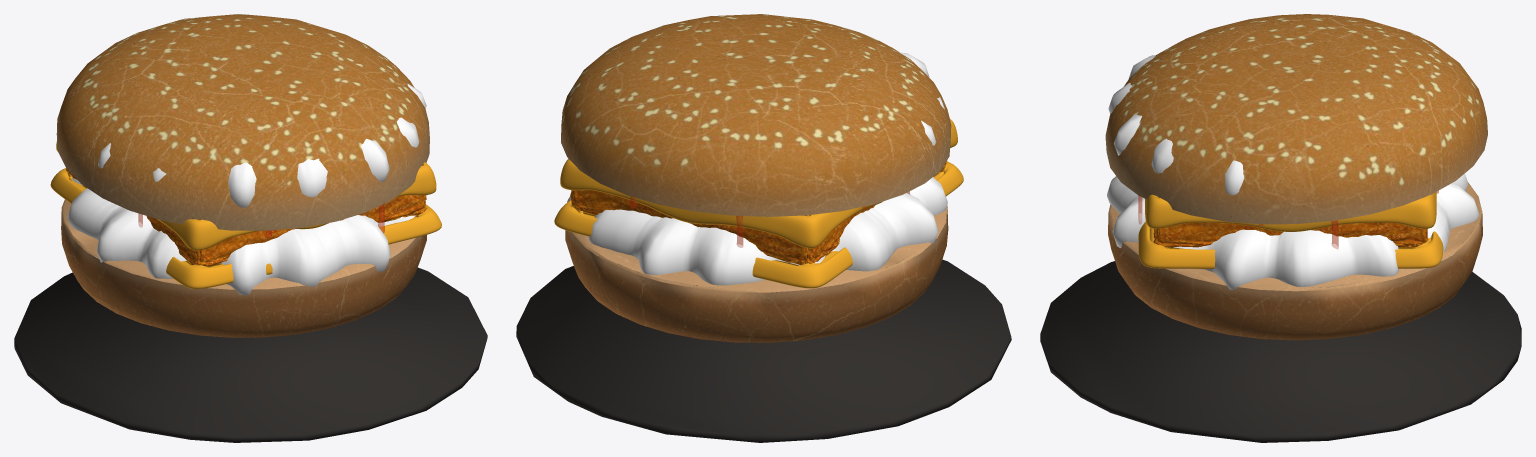
File: crispy-paneer-burger-balanced.glb
The picture shows the model from 3 angles, left to right: view 1: azimuth 30°, elevation 25°; view 2: azimuth 150°, elevation 25°; view 3: azimuth 270°, elevation 25°; orthographic projection. The views are drawn at different scales.
Parts seen in each view (by area): view 1: Burger_Top_Bun_Full, Serving_Slate_Plate, Burger_Bottom_Bun, Burger_Chutney_Bottom, Burger_Chutney_Top, Burger_Cheese_Bottom, Burger_Paneer_Patty, Burger_Cheese_Top; view 2: Burger_Top_Bun_Full, Serving_Slate_Plate, Burger_Bottom_Bun, Burger_Chutney_Bottom, Burger_Cheese_Top, Burger_Cheese_Bottom, Burger_Paneer_Patty; view 3: Burger_Top_Bun_Full, Serving_Slate_Plate, Burger_Bottom_Bun, Burger_Chutney_Bottom, Burger_Paneer_Patty, Burger_Cheese_Top, Burger_Cheese_Bottom, Burger_Chutney_Top.
Part boxes in pixels (<box>): Burger_Top_Bun_Full: <box>56,14,429,230</box>; Serving_Slate_Plate: <box>14,259,487,442</box>; Burger_Bottom_Bun: <box>61,199,426,337</box>; Burger_Chutney_Bottom: <box>67,177,426,295</box>; Burger_Chutney_Top: <box>98,83,426,207</box>; Burger_Cheese_Bottom: <box>50,168,441,288</box>; Burger_Paneer_Patty: <box>66,168,426,266</box>; Burger_Cheese_Top: <box>56,140,436,250</box>; Burger_Top_Bun_Full: <box>561,14,951,216</box>; Serving_Slate_Plate: <box>516,259,1011,442</box>; Burger_Bottom_Bun: <box>565,197,948,342</box>; Burger_Chutney_Bottom: <box>568,177,947,292</box>; Burger_Cheese_Top: <box>560,119,957,248</box>; Burger_Cheese_Bottom: <box>554,161,963,288</box>; Burger_Paneer_Patty: <box>570,160,947,264</box>; Burger_Top_Bun_Full: <box>1105,14,1487,224</box>; Serving_Slate_Plate: <box>1040,261,1521,442</box>; Burger_Bottom_Bun: <box>1108,182,1482,340</box>; Burger_Chutney_Bottom: <box>1107,173,1479,291</box>; Burger_Paneer_Patty: <box>1153,222,1428,247</box>; Burger_Cheese_Top: <box>1145,192,1436,231</box>; Burger_Cheese_Bottom: <box>1138,221,1443,268</box>; Burger_Chutney_Top: <box>1108,55,1244,195</box>.
Bounding box in the file's own units: 1.7 × 1.12 × 1.7.
8 materials, 2 textured.
